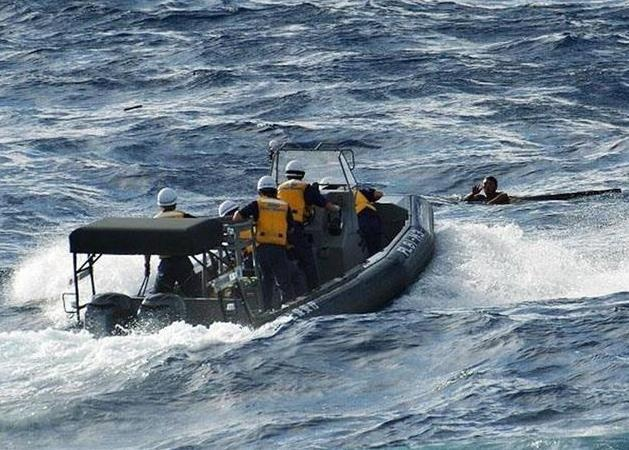otherboat: (49, 140, 442, 362)
person: (231, 175, 301, 303), (149, 182, 203, 296), (282, 159, 326, 287), (462, 171, 514, 210)
